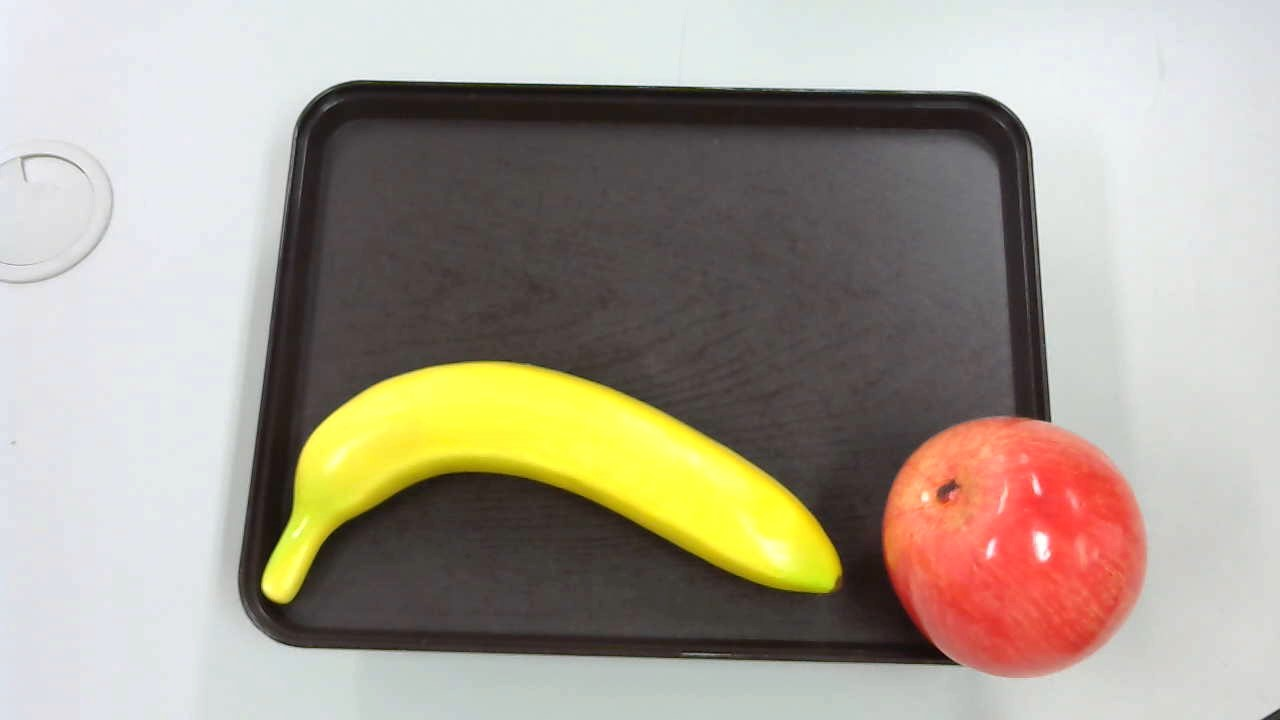banana: (254, 355, 849, 613)
red apple: (874, 412, 1159, 685)
